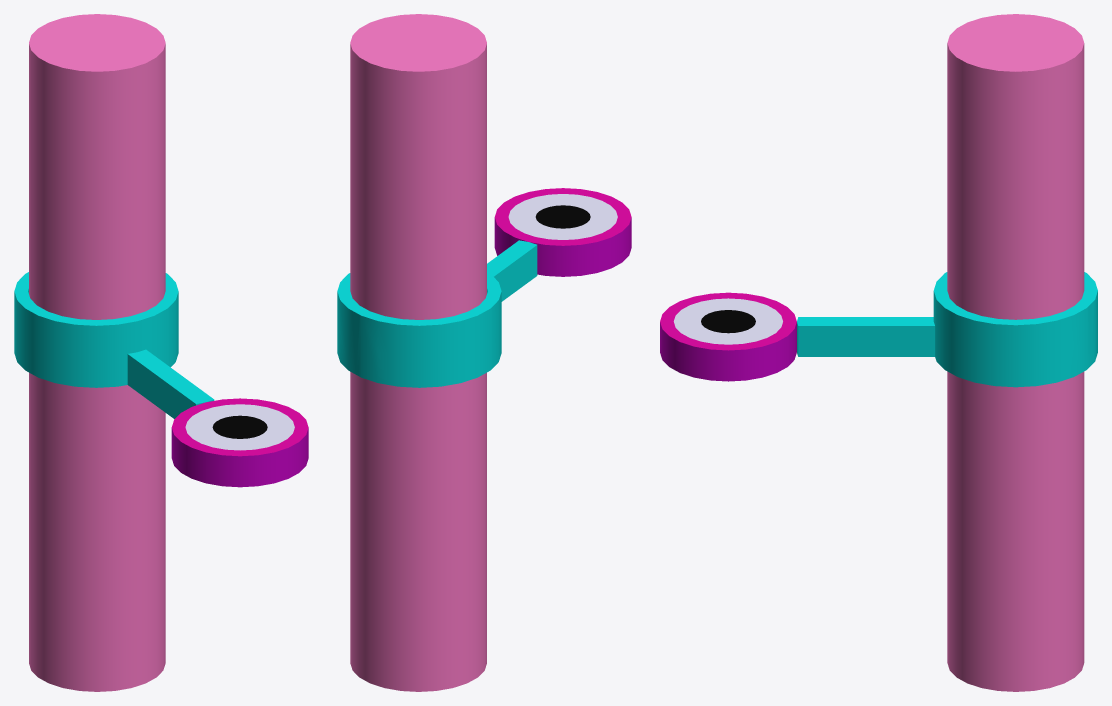
Rendered from basket.glb.
3 views of the same model, side by side, from view 1: azimuth 30°, elevation 25°; view 2: azimuth 150°, elevation 25°; view 3: azimuth 270°, elevation 25° (orthographic).
Parts seen in each view (by area): view 1: basket.001; view 2: basket.001; view 3: basket.001.
Boxes of the visible parts, x1,y1,x2,y2 form: basket.001: (14,14,308,691); basket.001: (337,14,631,691); basket.001: (660,14,1097,691).
Bounding box in the file's own units: 1.2 × 5 × 3.2.
